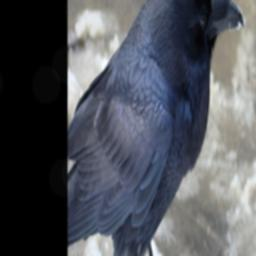Crow: (69, 0, 244, 256)
